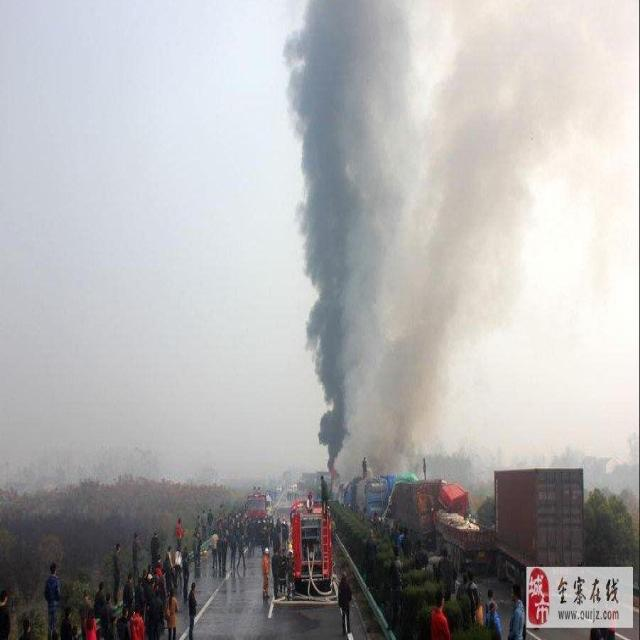Smoke: (282, 1, 590, 483)
